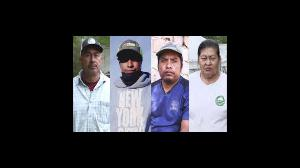mask_weared_incorrect: (120, 56, 141, 78)
without_mask: (159, 56, 181, 83), (201, 53, 218, 79), (84, 52, 101, 74)
